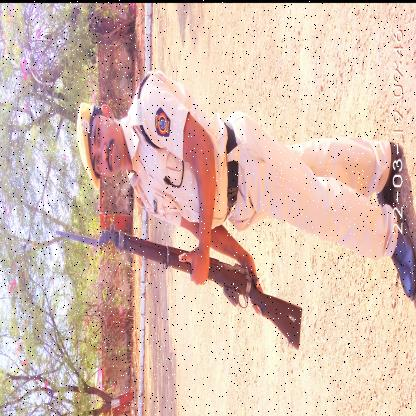rifle: (54, 219, 304, 353)
